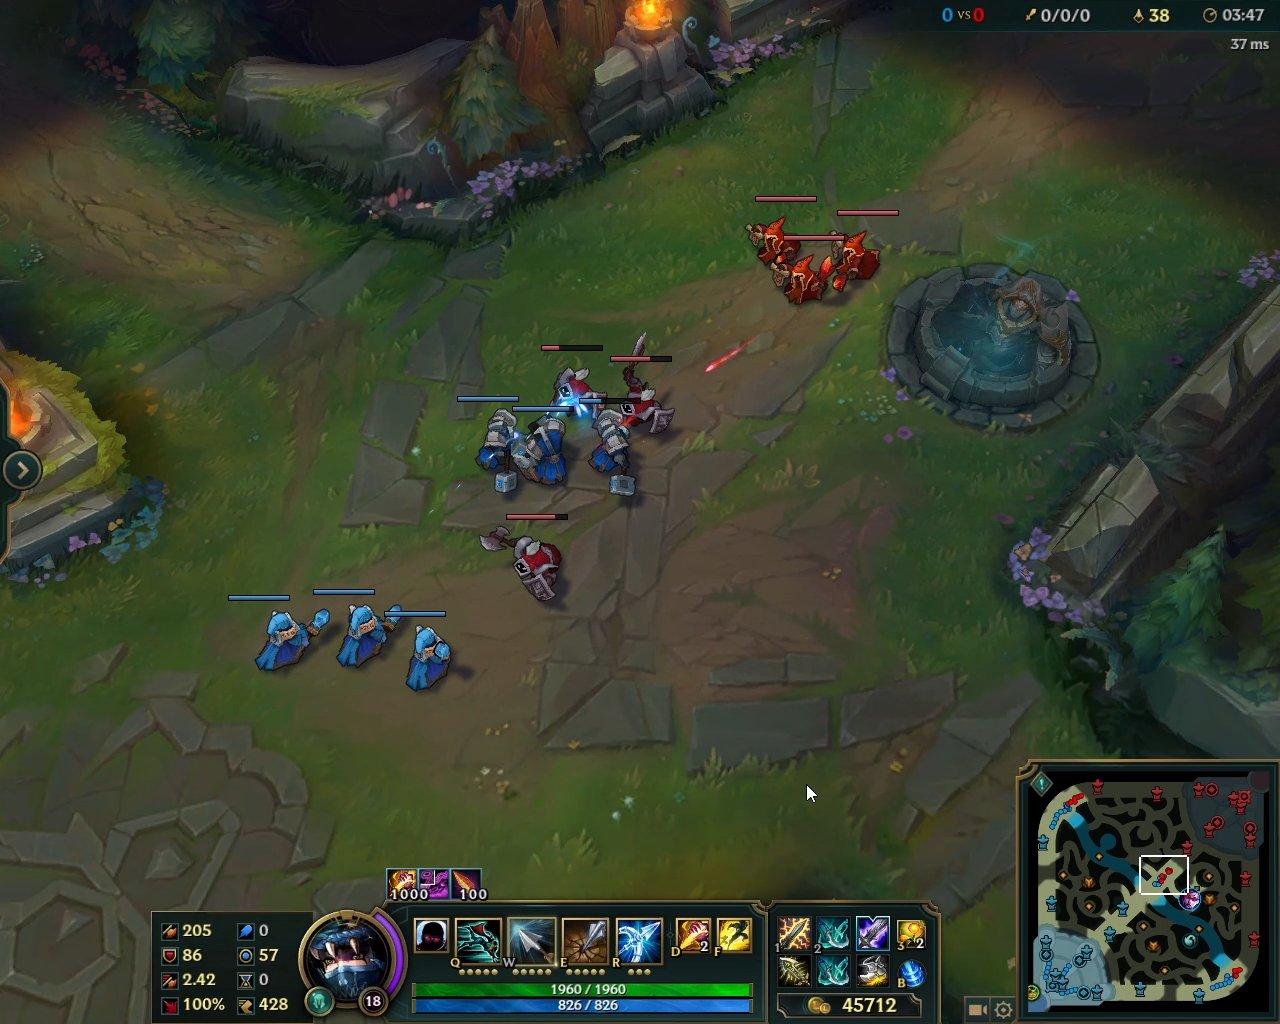EnemyMinion: (474, 512, 574, 608), (609, 332, 679, 438), (763, 234, 850, 310), (828, 209, 900, 294), (538, 342, 609, 421), (744, 195, 816, 267)
